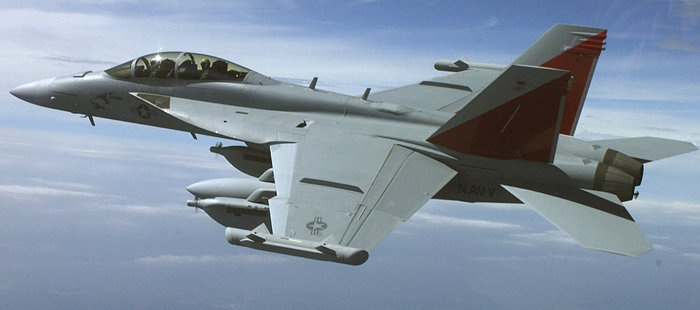airplane: (7, 24, 697, 265)
